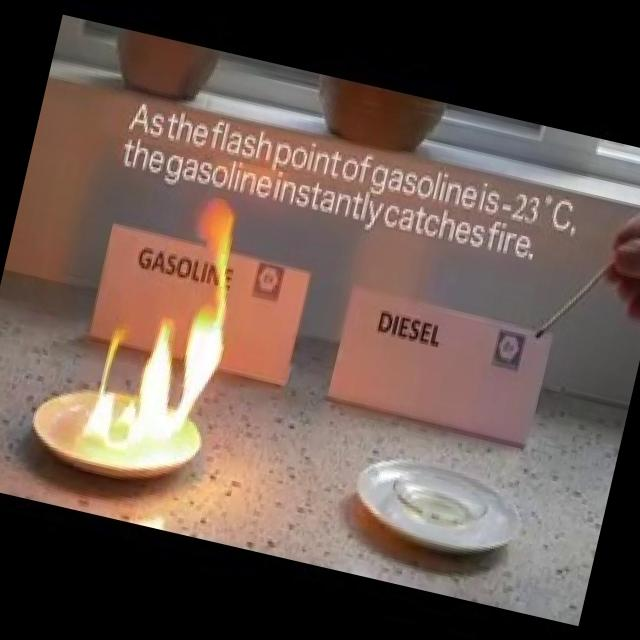Fire: (78, 173, 263, 476)
